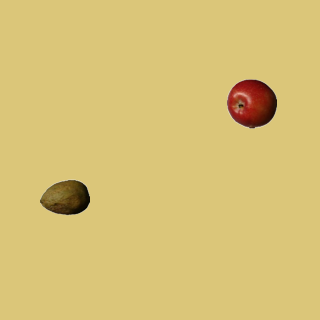Apple Braeburn: (226, 78, 276, 128)
Papaya: (39, 172, 89, 222)
